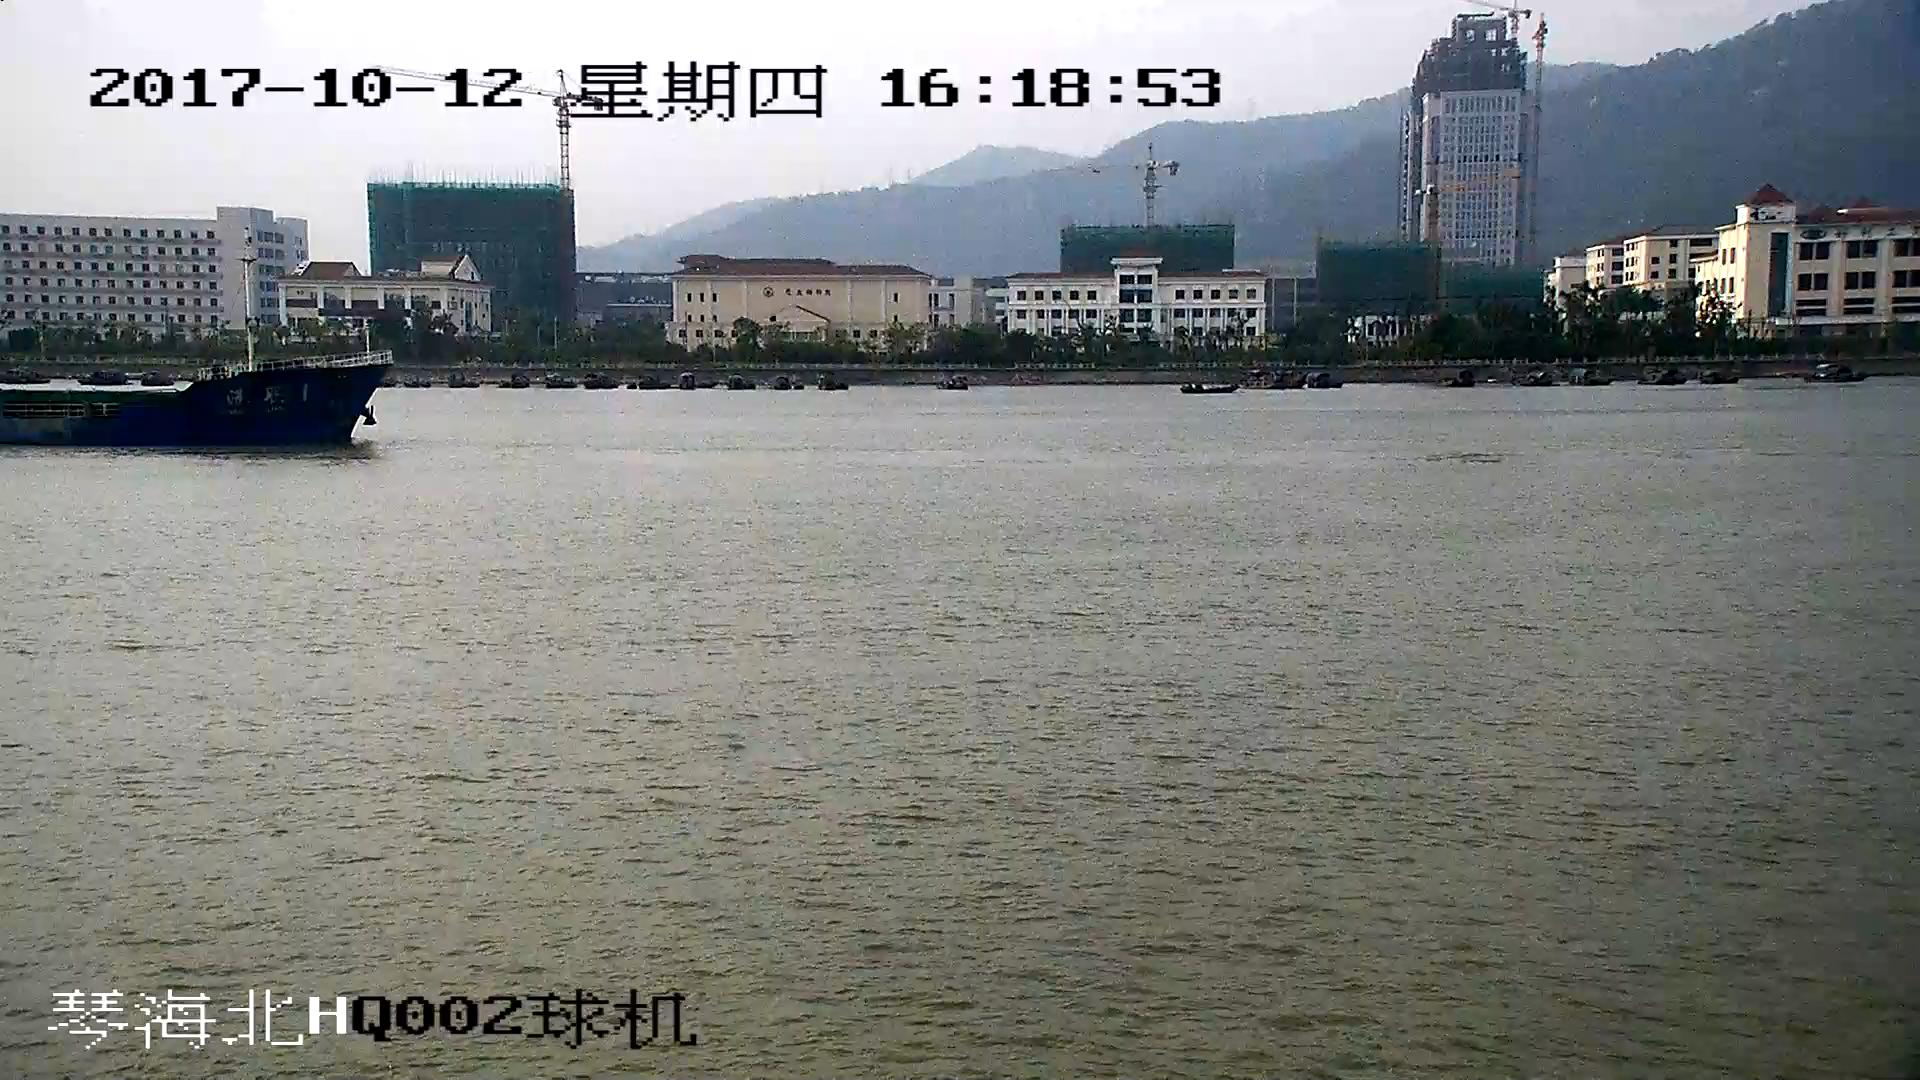general cargo ship: (1, 350, 381, 452)
